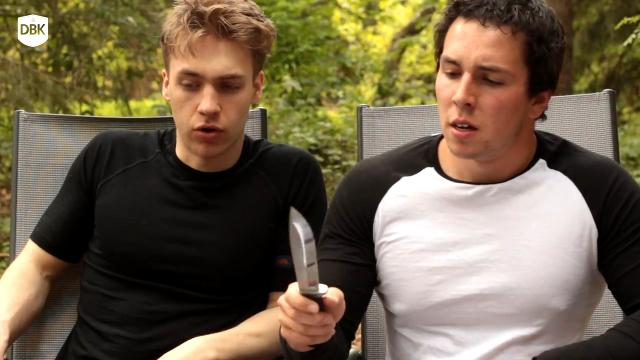pocket-knife: (289, 206, 329, 314)
